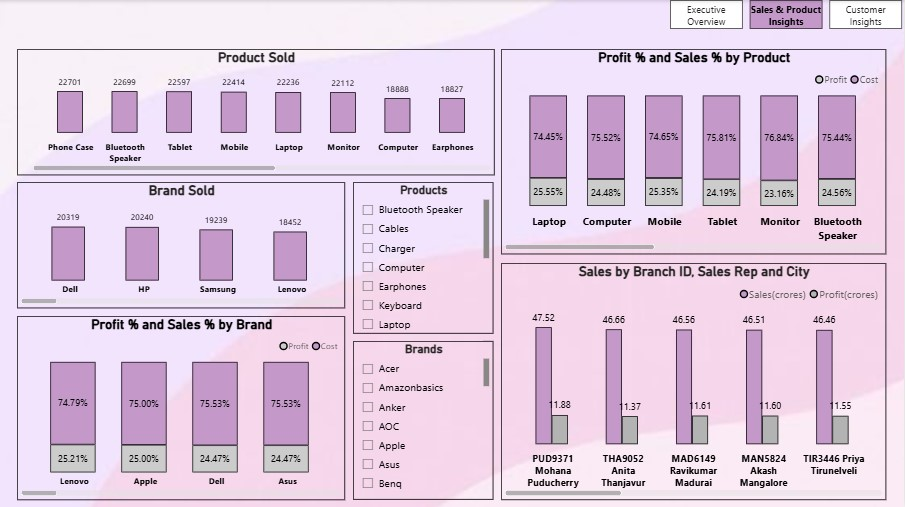

Layout of this report page (visuals, bound fields, positions):
{"tool":"powerbi","page":{"name":"Sales & Product Insights","canvas":[1280,720],"ordinal":1},"visuals":[{"type":"clusteredColumnChart","title":"Sales by Branch ID,  Sales Rep and City","fields":{"Y":["Retail sales data - Cleaned.Sales(crores)","Retail sales data - Cleaned.Profit(crores)"],"Category":["Retail sales data - Cleaned.branch_id","Retail sales data - Cleaned.sales_rep","Retail sales data - Cleaned.city"]},"box":[709.9,373,545.8,335.5],"z":0},{"type":"slicer","title":"Brands","fields":{"Values":["Retail sales data - Cleaned.brand_name"]},"box":[499.7,483.8,198.7,224.6],"z":3000},{"type":"hundredPercentStackedColumnChart","title":"Profit % and Sales % by Product","fields":{"Category":["Retail sales data - Cleaned.product_category"],"Y":["Sum(Retail sales data - Cleaned.profit)","Sum(Retail sales data - Cleaned.total_cost)"]},"box":[709.9,69.1,545.8,290.9],"z":5000},{"type":"clusteredColumnChart","title":"Product Sold","fields":{"Category":["Retail sales data - Cleaned.product_category"],"Y":["Sum(Retail sales data - Cleaned.quantity)"]},"box":[24.5,69.1,676.8,178.6],"z":6000},{"type":"slicer","title":"Products","fields":{"Values":["Retail sales data - Cleaned.product_category"]},"box":[499.7,257.8,198.7,214.6],"z":7000},{"type":"clusteredColumnChart","title":"Brand Sold","fields":{"Y":["Sum(Retail sales data - Cleaned.quantity)"],"Category":["Retail sales data - Cleaned.brand_name"]},"box":[24.5,257.8,465.1,178.6],"z":11000},{"type":"hundredPercentStackedColumnChart","title":"Profit % and Sales % by Brand","fields":{"Y":["Sum(Retail sales data - Cleaned.profit)","Sum(Retail sales data - Cleaned.total_cost)"],"Category":["Retail sales data - Cleaned.brand_name"]},"box":[24.5,447.8,465.1,260.6],"z":12000},{"type":"pageNavigator","box":[949.6,0,330.2,41.1],"z":13000}]}

Visuals, with their boxes in screenshot pixels (x1, y1, x2, y2), scaled from the page's 1280x720 canvas onto the 905x507 screenshot:
"Sales by Branch ID,  Sales Rep and City" clusteredColumnChart: 502 263 888 499
"Brands" slicer: 353 341 494 499
"Profit % and Sales % by Product" hundredPercentStackedColumnChart: 502 49 888 254
"Product Sold" clusteredColumnChart: 17 49 496 174
"Products" slicer: 353 182 494 333
"Brand Sold" clusteredColumnChart: 17 182 346 307
"Profit % and Sales % by Brand" hundredPercentStackedColumnChart: 17 315 346 499
pageNavigator: 671 0 904 29
